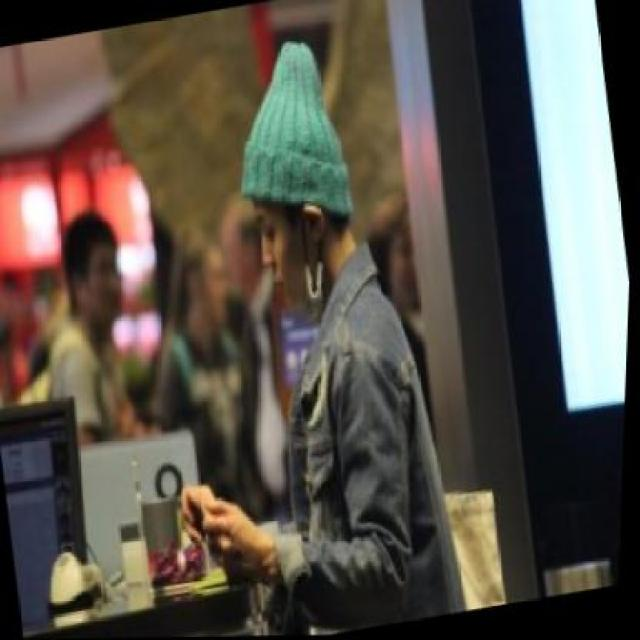hat: (244, 42, 355, 219)
